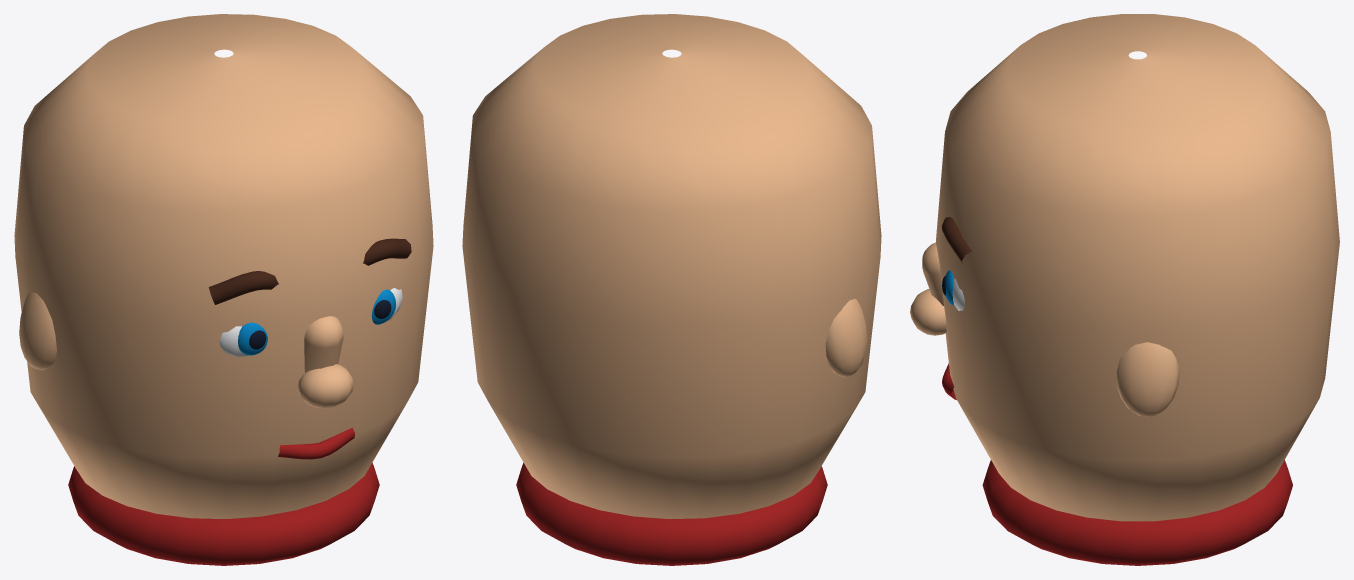
File: square.glb
The picture shows the model from 3 angles, left to right: view 1: azimuth 30°, elevation 25°; view 2: azimuth 150°, elevation 25°; view 3: azimuth 270°, elevation 25°; orthographic projection.
Parts seen in each view (by area): view 1: cranium, collar_accent, ear_r, nose_tip, nose_bridge, brow_-1, mouth_ridge, brow_1, eye_iris_-1; view 2: cranium, collar_accent, ear_r; view 3: cranium, collar_accent, ear_l, nose_tip, nose_bridge, brow_1.
Boxes of the visible parts, x1,y1,x2,y2 form: cranium: (14, 14, 433, 519); collar_accent: (68, 462, 379, 565); ear_r: (19, 292, 56, 370); nose_tip: (297, 364, 353, 408); nose_bridge: (304, 316, 343, 372); brow_-1: (208, 271, 278, 304); mouth_ridge: (278, 427, 355, 459); brow_1: (363, 238, 411, 265); eye_iris_-1: (238, 322, 267, 355); cranium: (462, 14, 881, 519); collar_accent: (516, 462, 827, 565); ear_r: (825, 298, 867, 377); cranium: (935, 14, 1339, 521); collar_accent: (982, 460, 1292, 565); ear_l: (1116, 342, 1179, 417); nose_tip: (910, 289, 946, 335); nose_bridge: (922, 242, 943, 305); brow_1: (941, 217, 971, 264).
Size of the model in its own units: 0.2365 by 0.2638 by 0.227.
